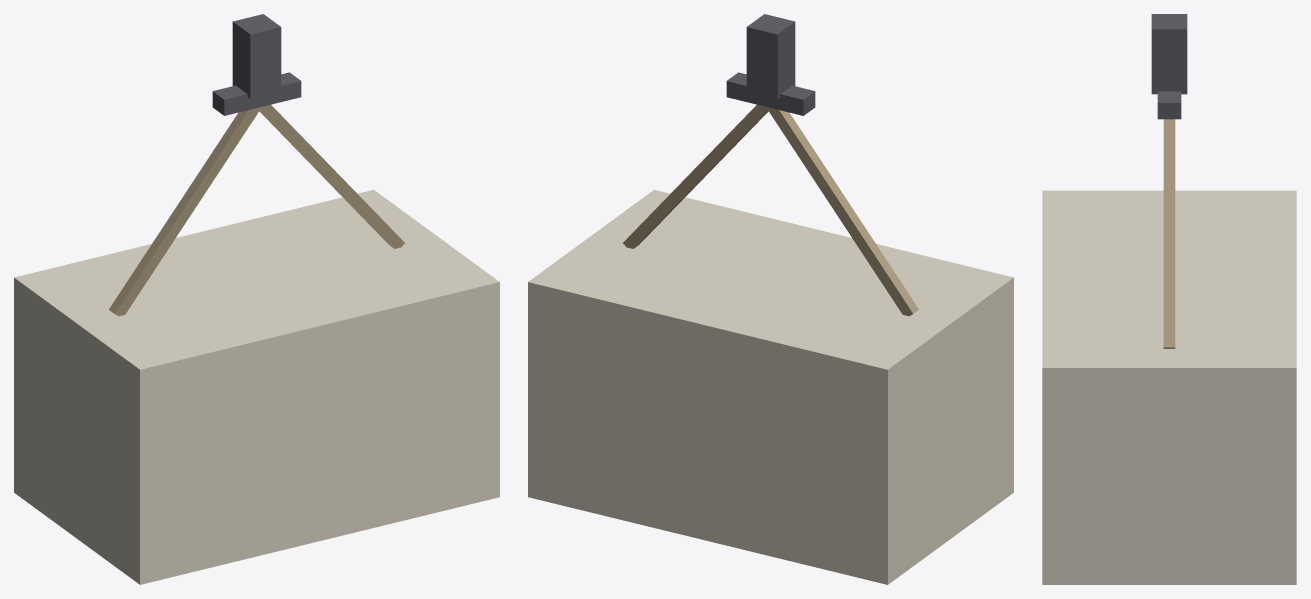
File: crane_block.glb
3 renders of one model, left to right at view 1: azimuth 30°, elevation 25°; view 2: azimuth 150°, elevation 25°; view 3: azimuth 270°, elevation 25°, orthographic.
Parts seen in each view (by area): view 1: CraneBlock; view 2: CraneBlock; view 3: CraneBlock.
Boxes of the visible parts, bbox=[...] form: CraneBlock: bbox=[14, 14, 499, 584]; CraneBlock: bbox=[528, 14, 1013, 584]; CraneBlock: bbox=[1042, 14, 1296, 584].
Size of the model in its own units: 1.4 by 1.75 by 0.85.
